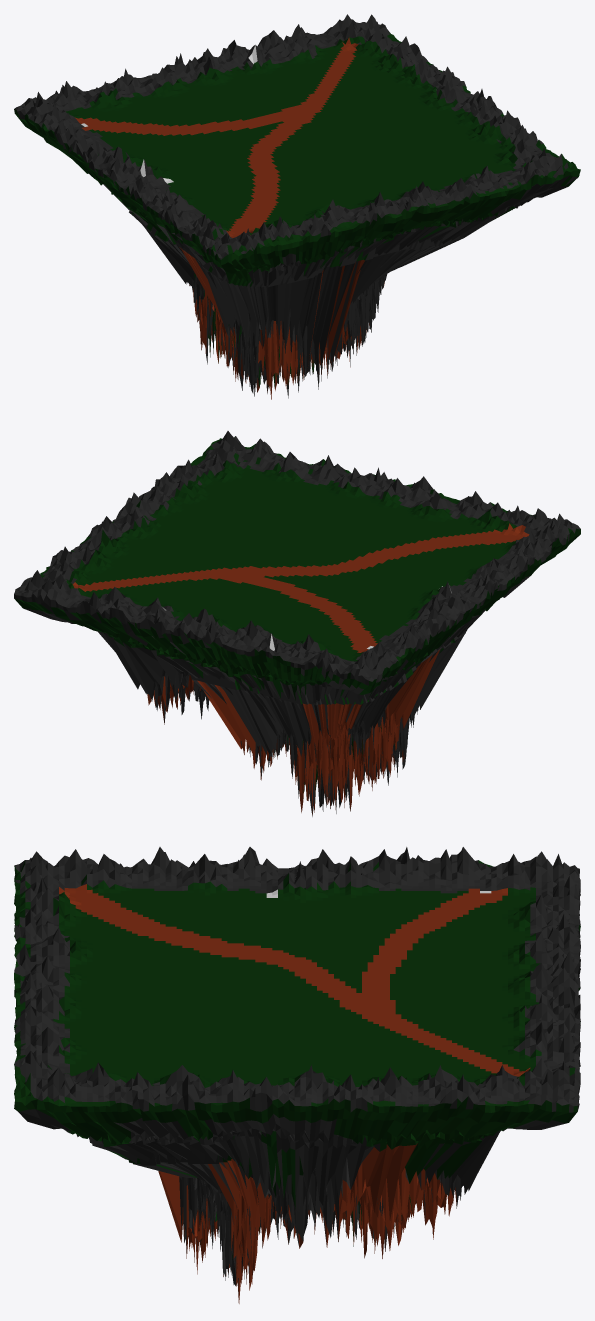
The model's file is ground.obj.
The picture shows the model from 3 angles, top to bottom: view 1: azimuth 30°, elevation 25°; view 2: azimuth 150°, elevation 25°; view 3: azimuth 270°, elevation 25°; orthographic projection. The views are drawn at different scales.
Visible parts, largest first — view 1: Plane_Plane_rocce, Plane_Plane_rocce_2, Plane_Plane_terra; view 2: Plane_Plane_rocce, Plane_Plane_rocce_2, Plane_Plane_terra; view 3: Plane_Plane_rocce, Plane_Plane_rocce_2, Plane_Plane_terra.
Part boxes in pixels (left/top/right/bottom): Plane_Plane_rocce: left=14, top=32, right=580, bottom=386; Plane_Plane_rocce_2: left=14, top=14, right=577, bottom=398; Plane_Plane_terra: left=75, top=37, right=384, bottom=399; Plane_Plane_rocce: left=14, top=436, right=580, bottom=809; Plane_Plane_rocce_2: left=14, top=431, right=580, bottom=816; Plane_Plane_terra: left=72, top=523, right=529, bottom=814; Plane_Plane_rocce: left=14, top=860, right=580, bottom=1259; Plane_Plane_rocce_2: left=14, top=847, right=580, bottom=1293; Plane_Plane_terra: left=59, top=884, right=530, bottom=1303.
Bounding box in the file's own units: 1.43 × 0.8989 × 1.43.
